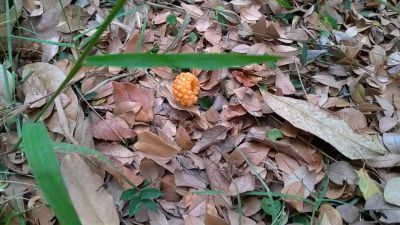eggs: (170, 68, 202, 109)
